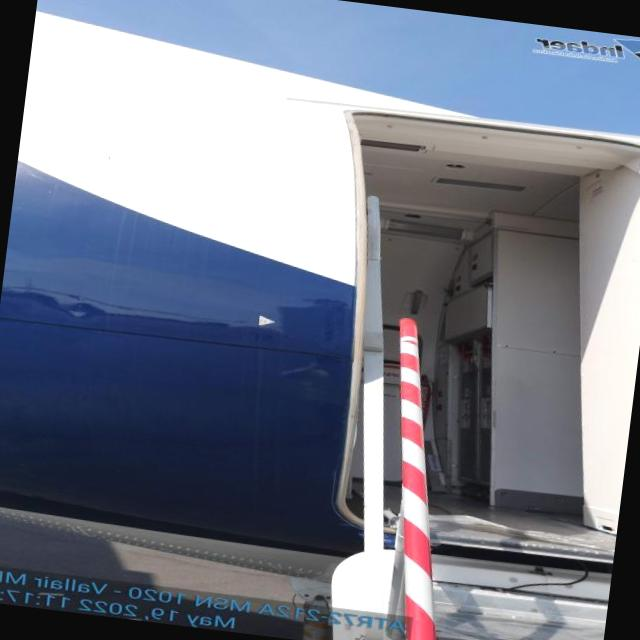dent: (59, 298, 108, 324)
